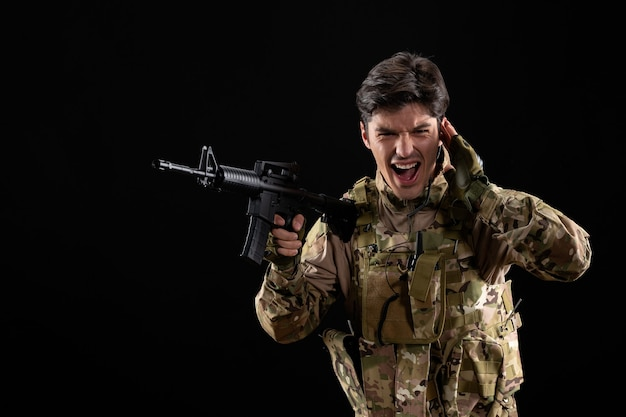gun: (151, 145, 361, 267)
